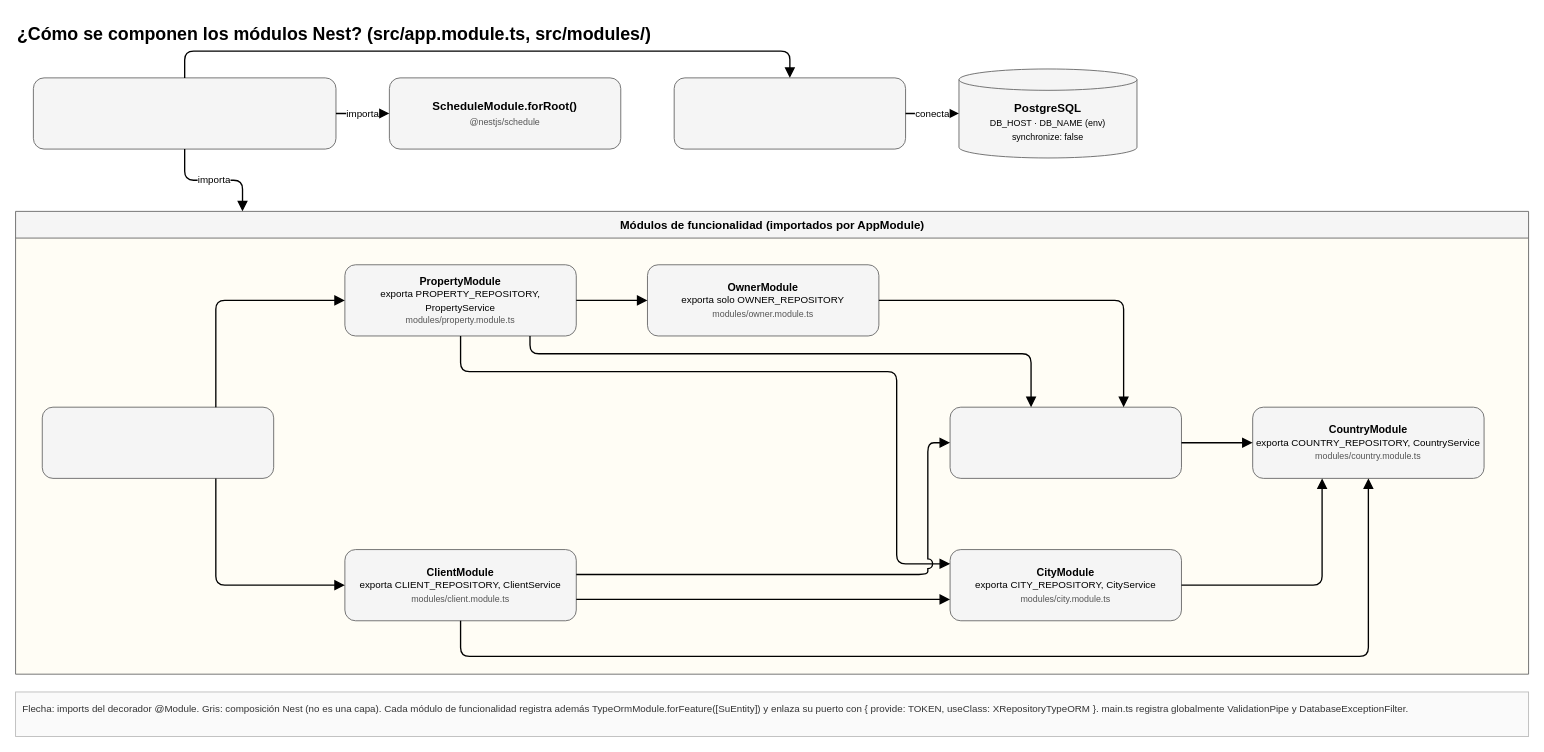
This 1544x752 diagram has some shape labels left out. Each missing label, with the centre of its shape:
AppModule controllers: AppController · providers: AppService src/app.module.ts: point (184, 113)
BankModule exporta BANK_REPOSITORY, BankService modules/bank.module.ts: point (1065, 442)
DatabaseModule TypeOrmModule.forRoot(postgres) modules/database.module.ts: point (789, 113)
RentalModule exporta RENTAL_REPOSITORY, RentalService modules/rental.module.ts: point (157, 442)
